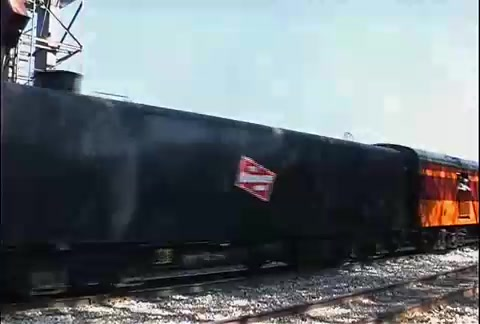train: (1, 3, 480, 304)
